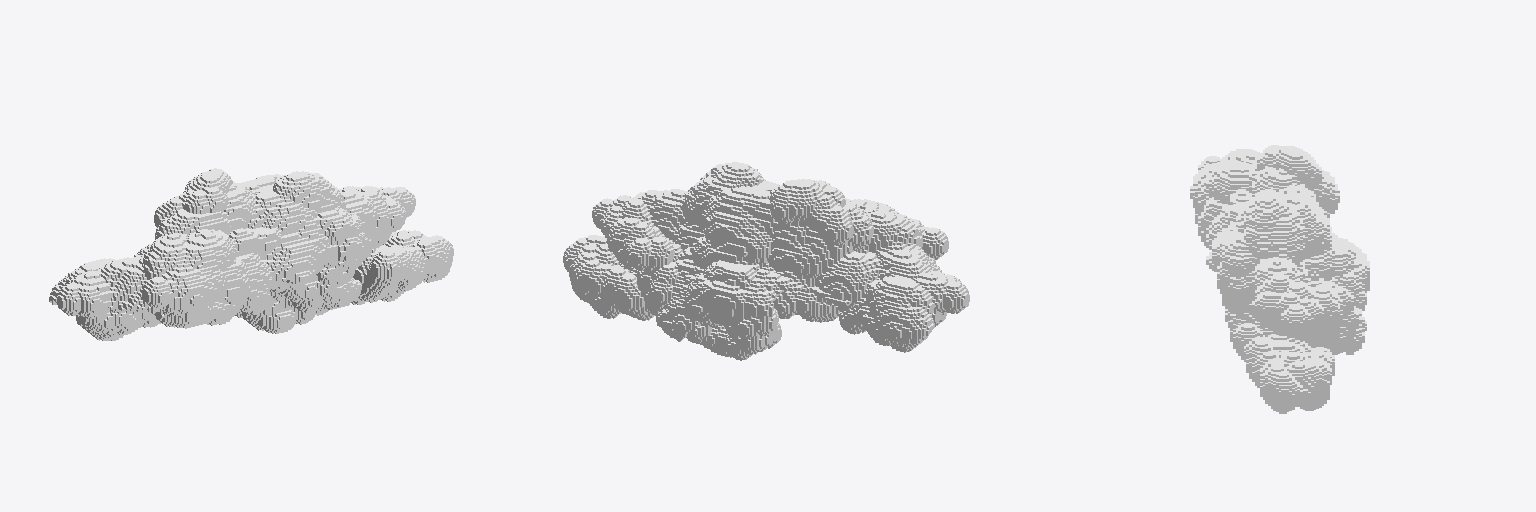
File: forest1.4-108.obj
3 renders of one model, left to right at view 1: azimuth 30°, elevation 25°; view 2: azimuth 150°, elevation 25°; view 3: azimuth 270°, elevation 25°, orthographic.
Parts seen in each view (by area): view 1: object 1; view 2: object 1; view 3: object 1.
Boxes of the visible parts, <box> form: object 1: <box>49,168,453,340</box>; object 1: <box>563,161,969,360</box>; object 1: <box>1190,145,1369,413</box>.
Bounding box in the file's own units: 17 × 7.1 × 6.7.